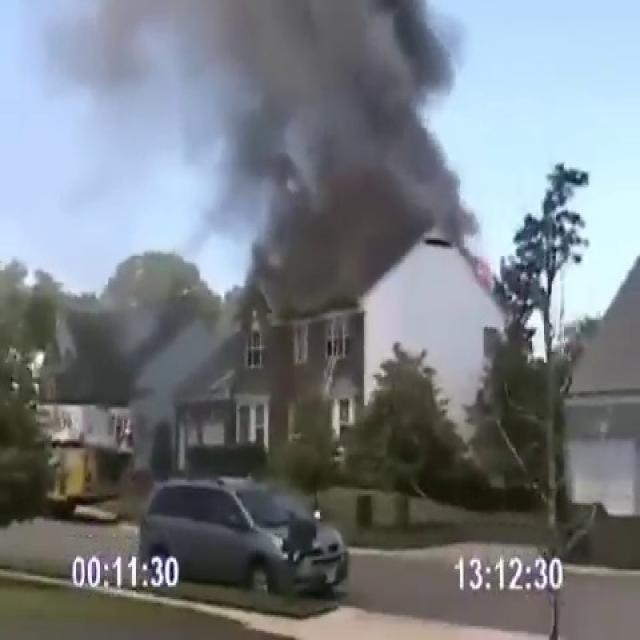Smoke: (16, 0, 478, 313)
